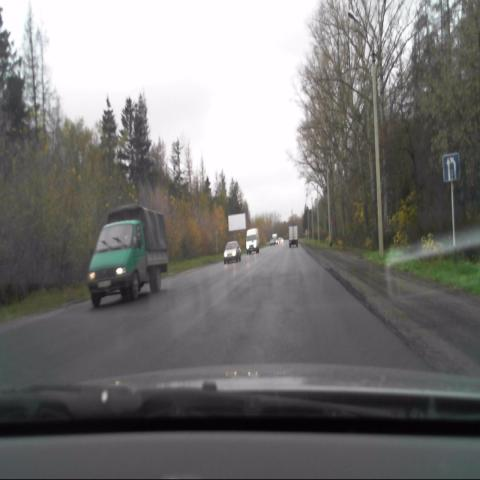5_15_5: (443, 154, 461, 185)
